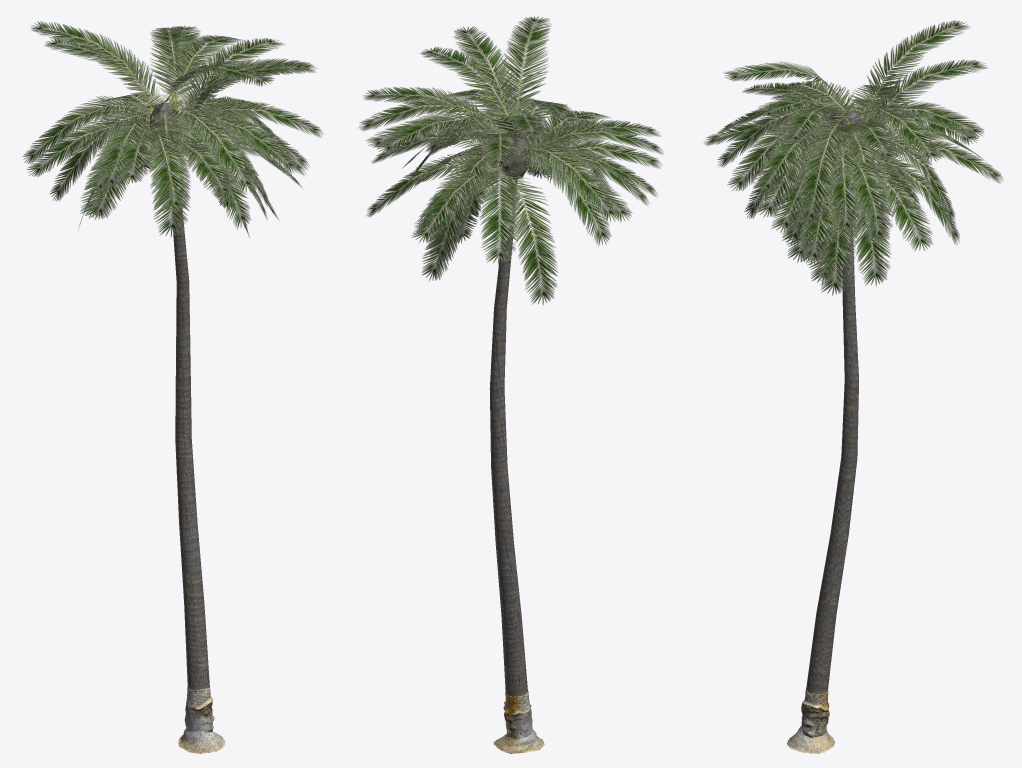
The model's file is coconut_b.glb.
The picture shows the model from 3 angles, left to right: view 1: azimuth 30°, elevation 25°; view 2: azimuth 150°, elevation 25°; view 3: azimuth 270°, elevation 25°; orthographic projection.
Visible parts, largest first — view 1: PALMLOW_w; view 2: PALMLOW_w; view 3: PALMLOW_w.
Part boxes in pixels (box(x1,y1,x2,y2)): PALMLOW_w: box(22, 21, 323, 753); PALMLOW_w: box(358, 16, 664, 753); PALMLOW_w: box(703, 20, 1003, 753).
Size of the model in its own units: 4.3 by 10.5 by 4.31.
3 materials, 3 textured.
